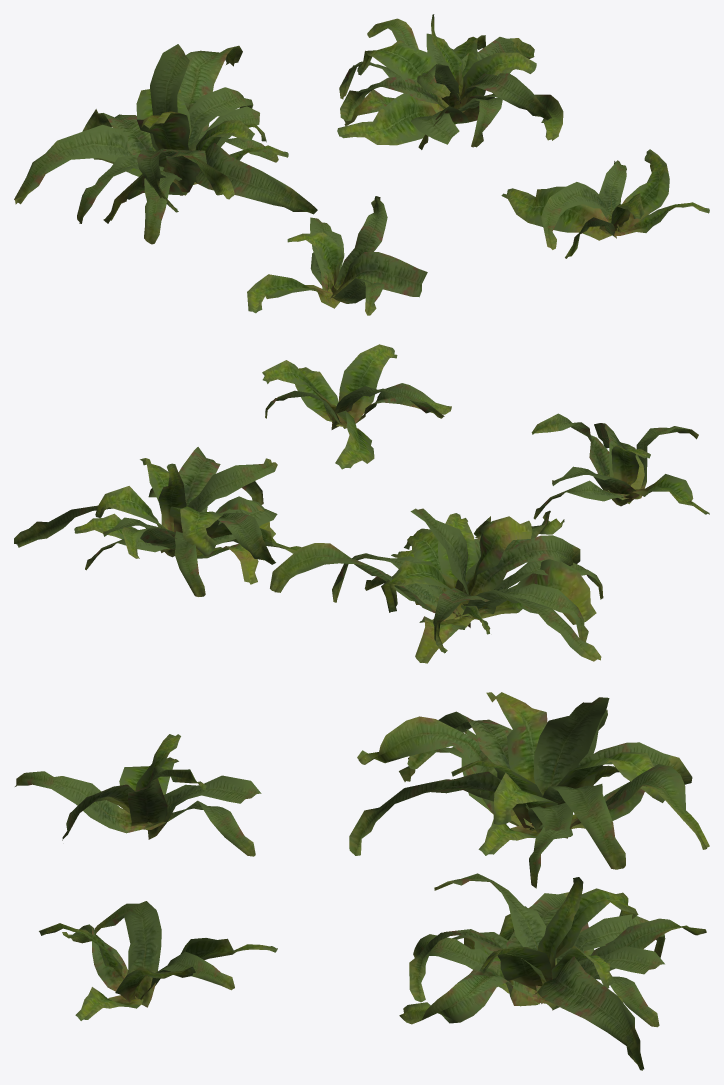
File: fern_02.glb
3 views of the same model, one above another, from view 1: azimuth 30°, elevation 25°; view 2: azimuth 150°, elevation 25°; view 3: azimuth 270°, elevation 25° (orthographic). The views are drawn at different scales.
Parts seen in each view (by area): view 1: fern_02_b; view 2: fern_02_b; view 3: fern_02_b.
Boxes of the visible parts, bbox=[...] form: fern_02_b: bbox=[14, 14, 709, 315]; fern_02_b: bbox=[14, 344, 709, 663]; fern_02_b: bbox=[15, 692, 709, 1070].
Size of the model in its own units: 1.97 by 0.4277 by 1.72.
1 material, 1 textured.
